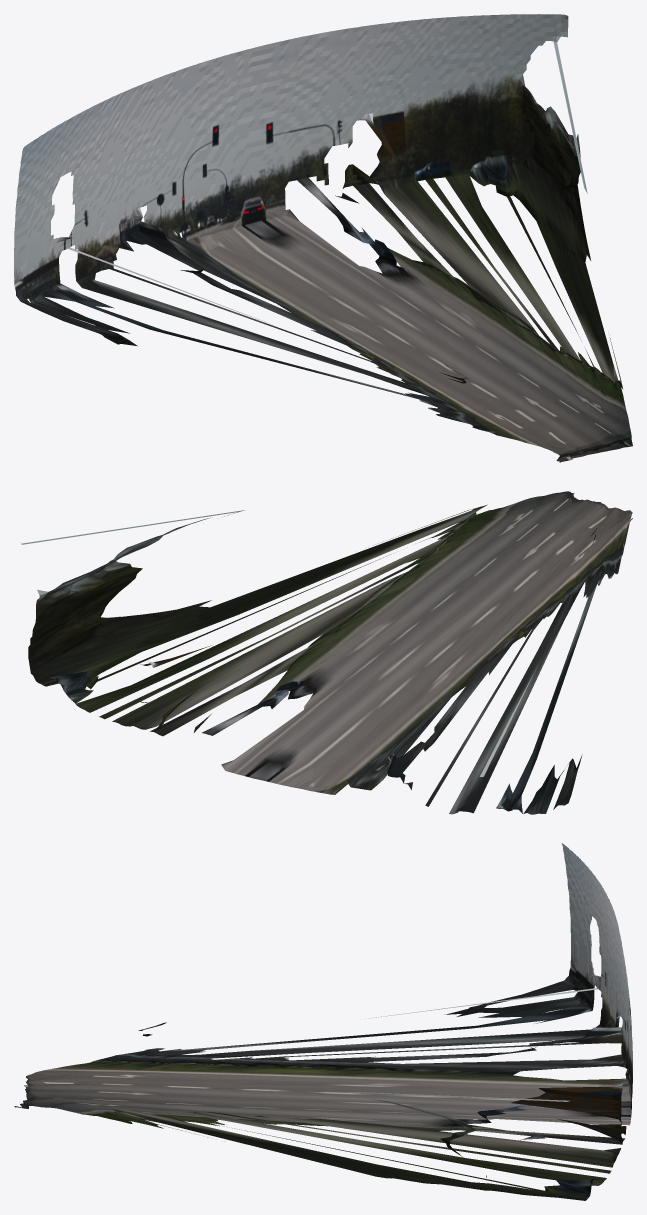
The picture shows the model from 3 angles, top to bottom: view 1: azimuth 30°, elevation 25°; view 2: azimuth 150°, elevation 25°; view 3: azimuth 270°, elevation 25°; orthographic projection. The views are drawn at different scales.
Visible parts, largest first — view 1: defaultobject; view 2: defaultobject; view 3: defaultobject.
Part boxes in pixels (x1=…): defaultobject: x1=14, y1=14, x2=632, y2=462; defaultobject: x1=21, y1=491, x2=632, y2=814; defaultobject: x1=14, y1=843, x2=632, y2=1200.
Size of the model in its own units: 40.94 by 13.13 by 44.69.
1 material, 1 textured.
